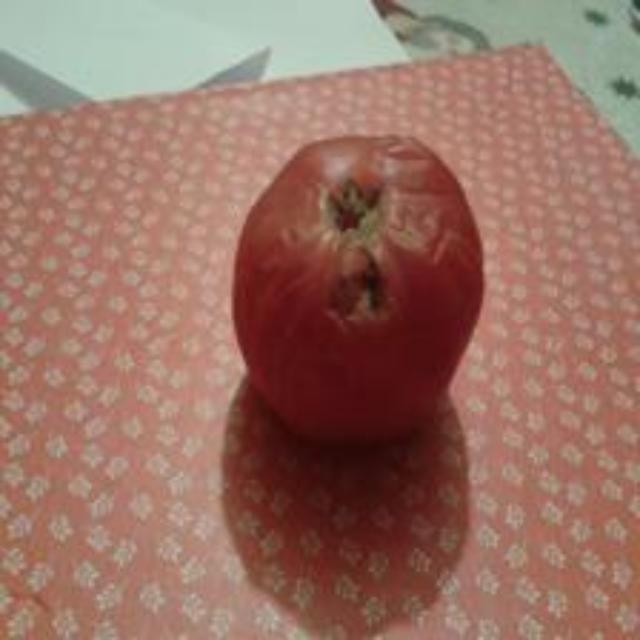defect: (226, 125, 494, 465)
